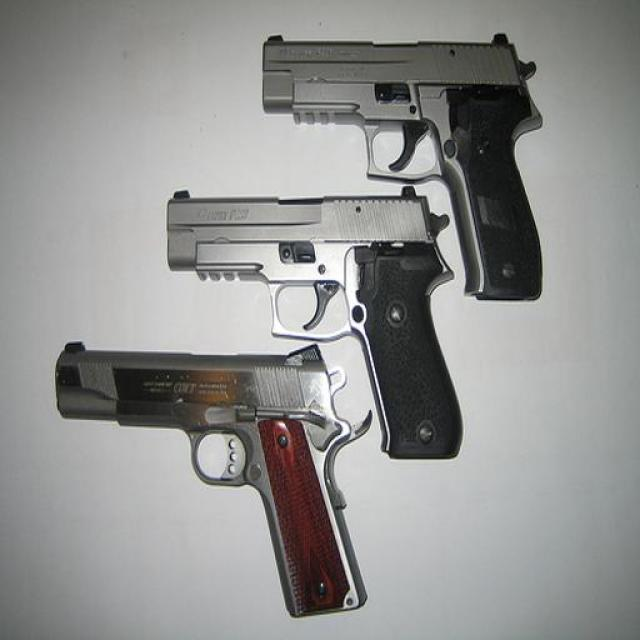pistol: (56, 339, 370, 618), (167, 185, 461, 462), (258, 29, 546, 301)
